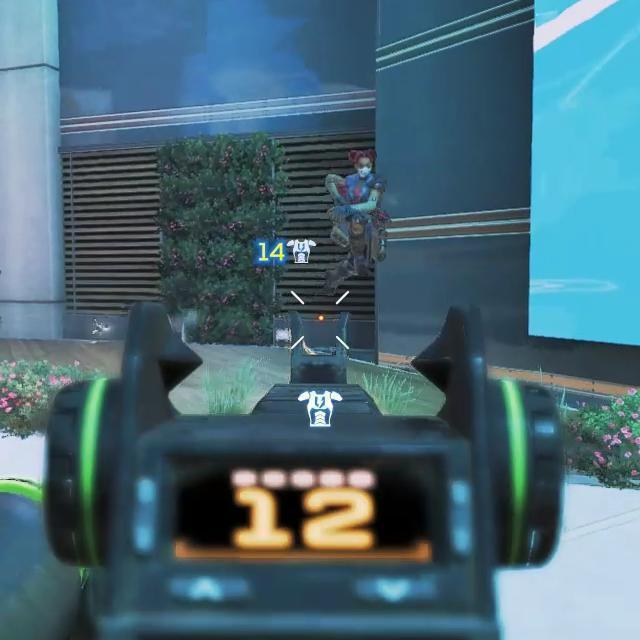avatar: (325, 149, 390, 293)
